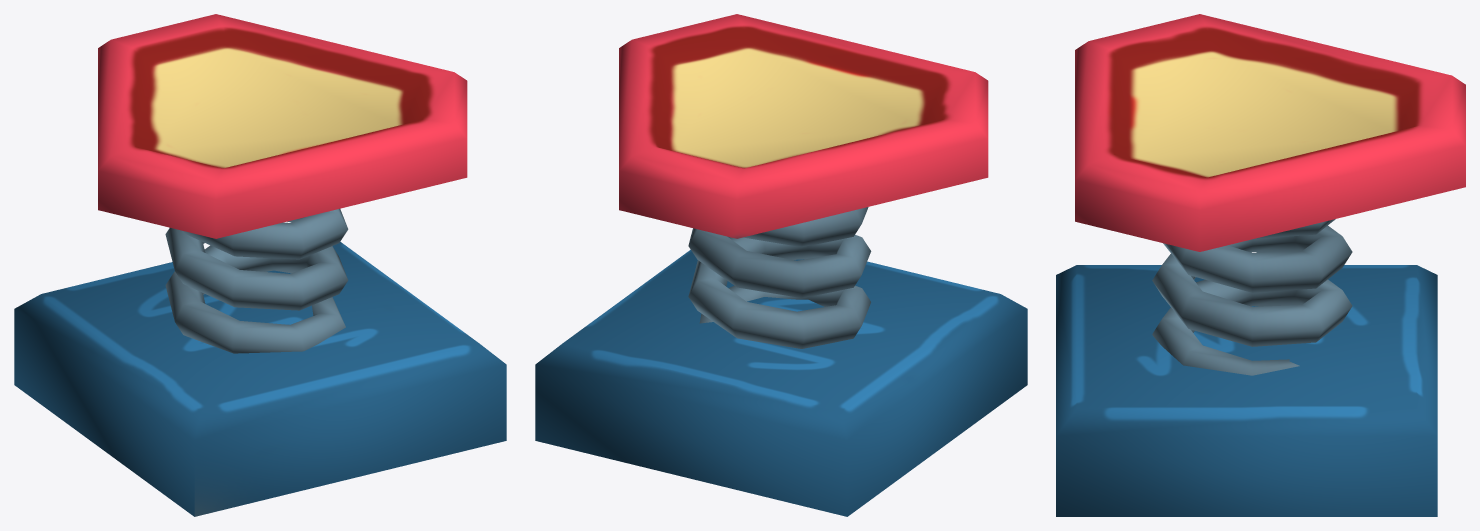
File: Jumppad.glb
3 views of the same model, side by side, from view 1: azimuth 30°, elevation 25°; view 2: azimuth 150°, elevation 25°; view 3: azimuth 270°, elevation 25° (orthographic). The views are drawn at different scales.
Parts seen in each view (by area): view 1: Torus; view 2: Torus; view 3: Torus.
Boxes of the visible parts, bbox=[...] form: Torus: bbox=[14, 14, 506, 516]; Torus: bbox=[535, 14, 1027, 516]; Torus: bbox=[1056, 14, 1465, 516].
Size of the model in its own units: 1.31 by 1.07 by 1.19.
1 material, 1 textured.
